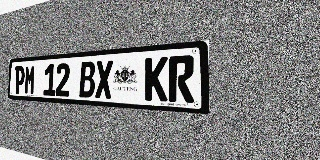1: (43, 64, 56, 96)
2: (56, 63, 70, 97)
B: (79, 61, 95, 98)
K: (145, 57, 168, 102)
M: (24, 65, 35, 95)
P: (14, 66, 25, 94)
R: (168, 55, 195, 103)
X: (95, 60, 113, 99)
